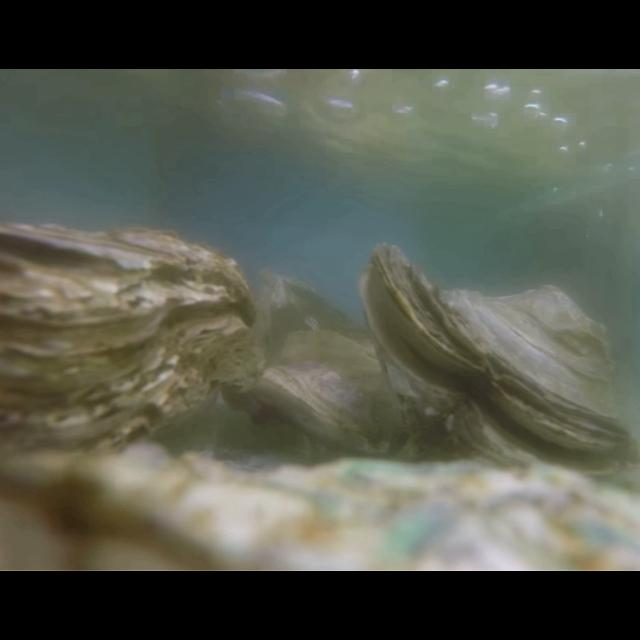Oyster-Closed: (0, 443, 640, 571), (0, 222, 258, 474), (259, 330, 419, 466), (266, 275, 370, 361)
Oyster-Open: (358, 242, 640, 488)
